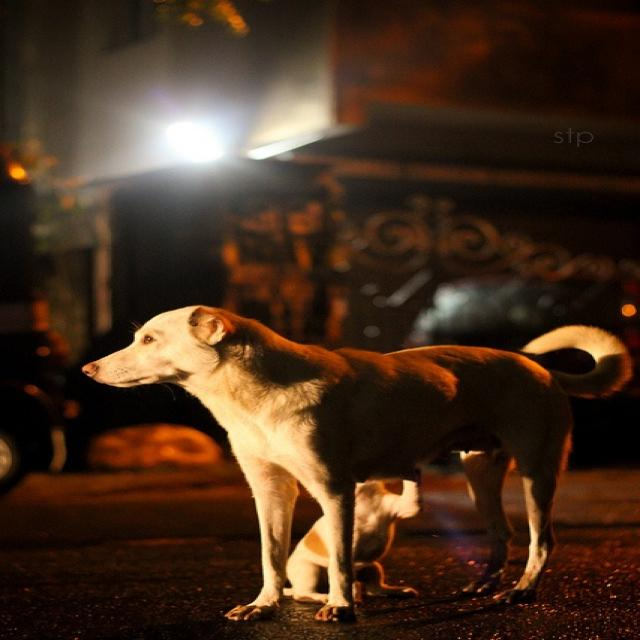Dog: (39, 277, 640, 640)
